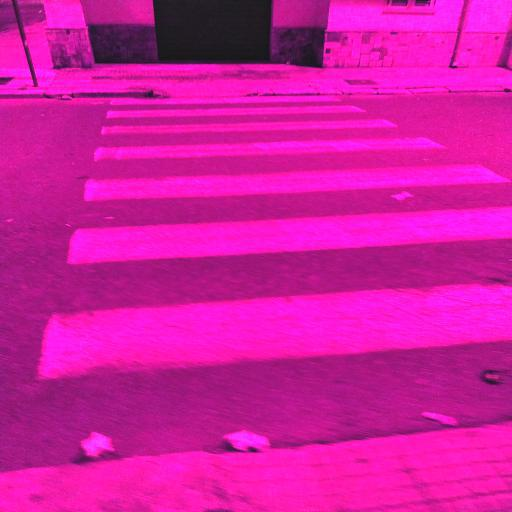crosswalk: (27, 200, 512, 394), (69, 114, 453, 168)
